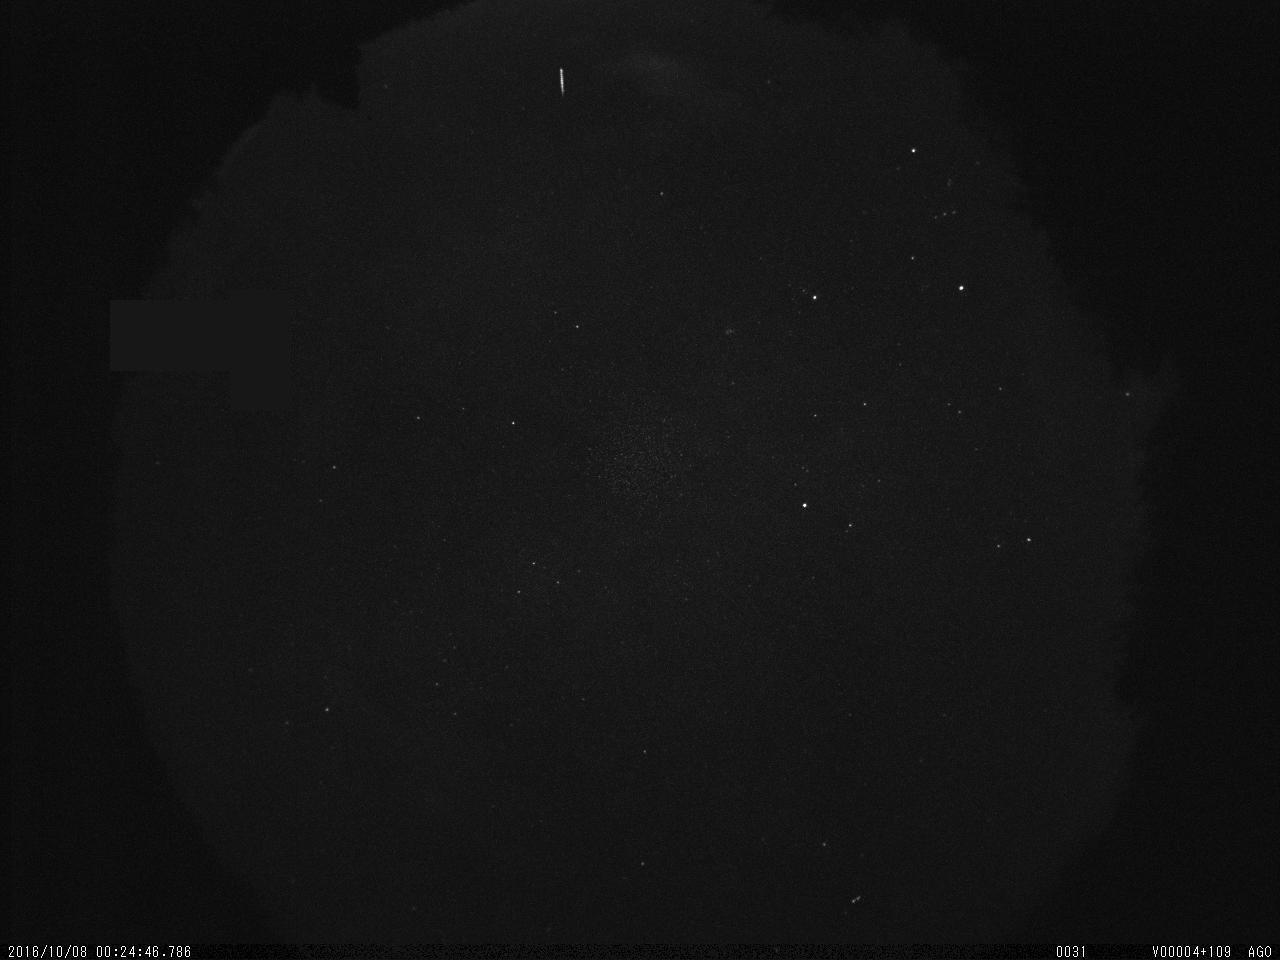meteor: (552, 61, 576, 104)
